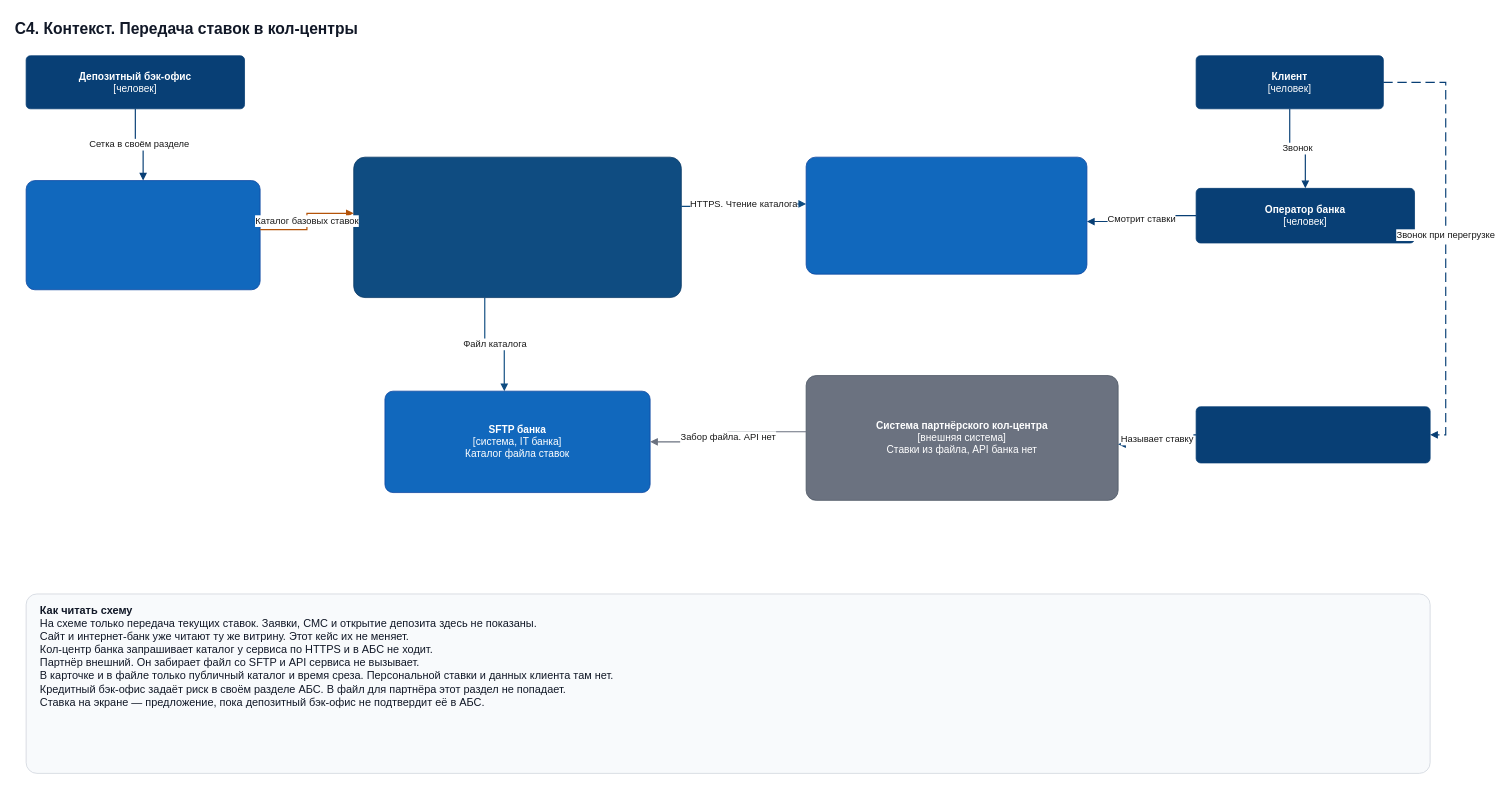
Some shapes in this 1509 by 787 pixel diagram are drawn without their labels. Here are the shapes that lost their labels. From the top down, the box of each, then its label:
(25, 180, 260, 290): АБС [система, Delphi, Oracle] Сетка ставок в своём разделе
(353, 156, 681, 298): Сервис открытия депозитов [система, ASP.NET Core] Витрина базовых ставок
(805, 156, 1087, 274): Система кол-центра банка [система, Java] Карточка текущих ставок
(1195, 406, 1430, 463): Оператор партнёра [человек]
